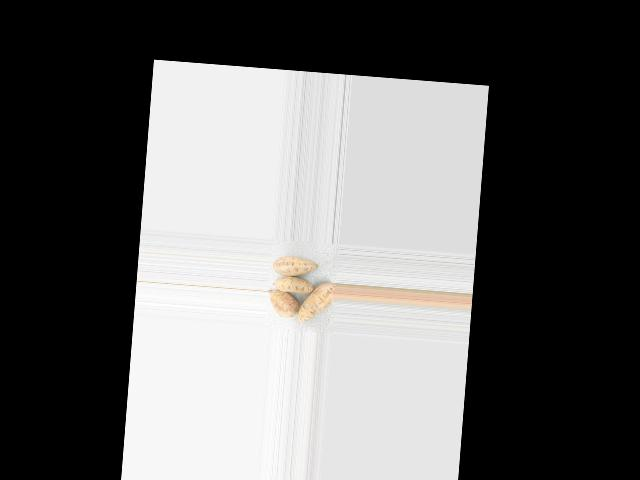sweet_potato: (297, 275, 336, 328)
